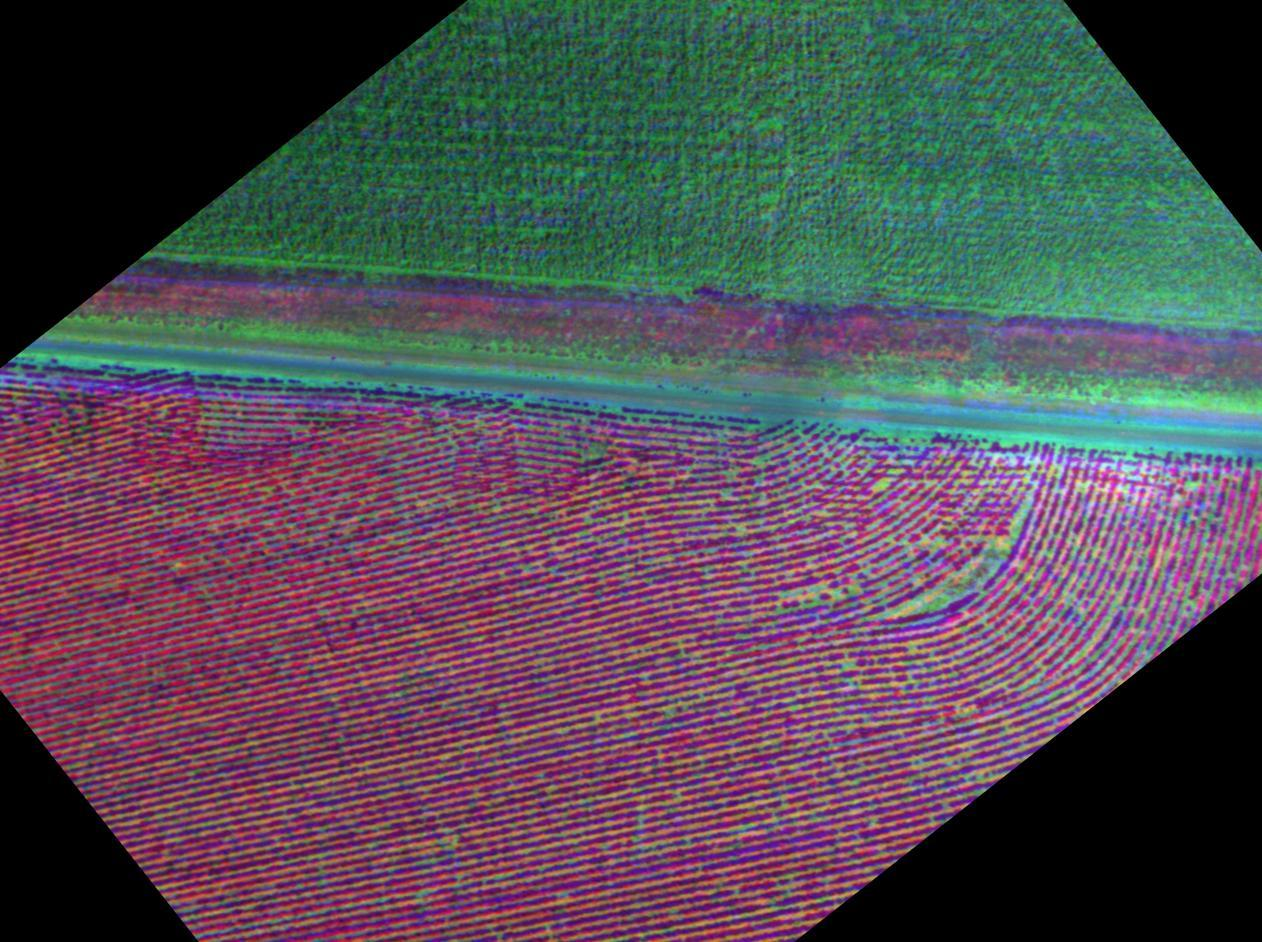dc: (868, 535, 1008, 614), (821, 648, 911, 724), (941, 673, 1018, 734), (783, 575, 856, 632), (418, 815, 469, 871)
